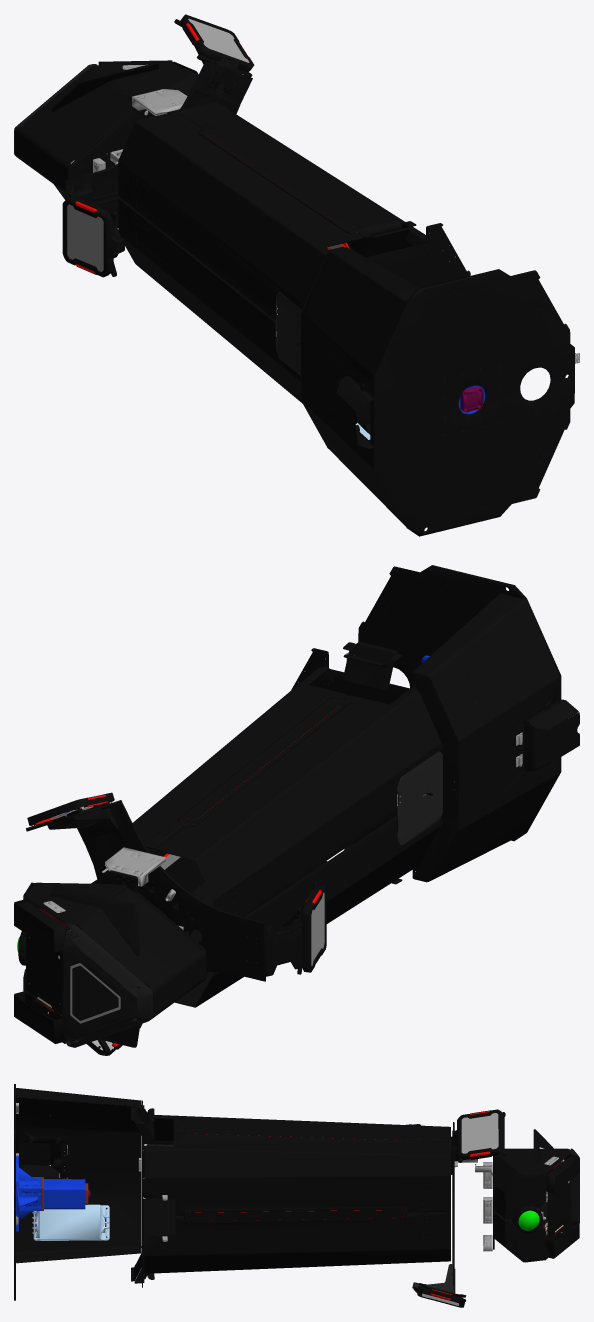
3 views of the same model, one above another, from view 1: azimuth 30°, elevation 25°; view 2: azimuth 150°, elevation 25°; view 3: azimuth 270°, elevation 25° (orthographic). The views are drawn at different scales.
Visible parts, largest first — view 1: node; view 2: node; view 3: node.
Part boxes in pixels (x1,y1,x2,y2): node: (14,14,579,536); node: (14,565,579,1055); node: (14,1084,579,1307).
Size of the model in its own units: 0.5311 by 1.47 by 0.5659.
